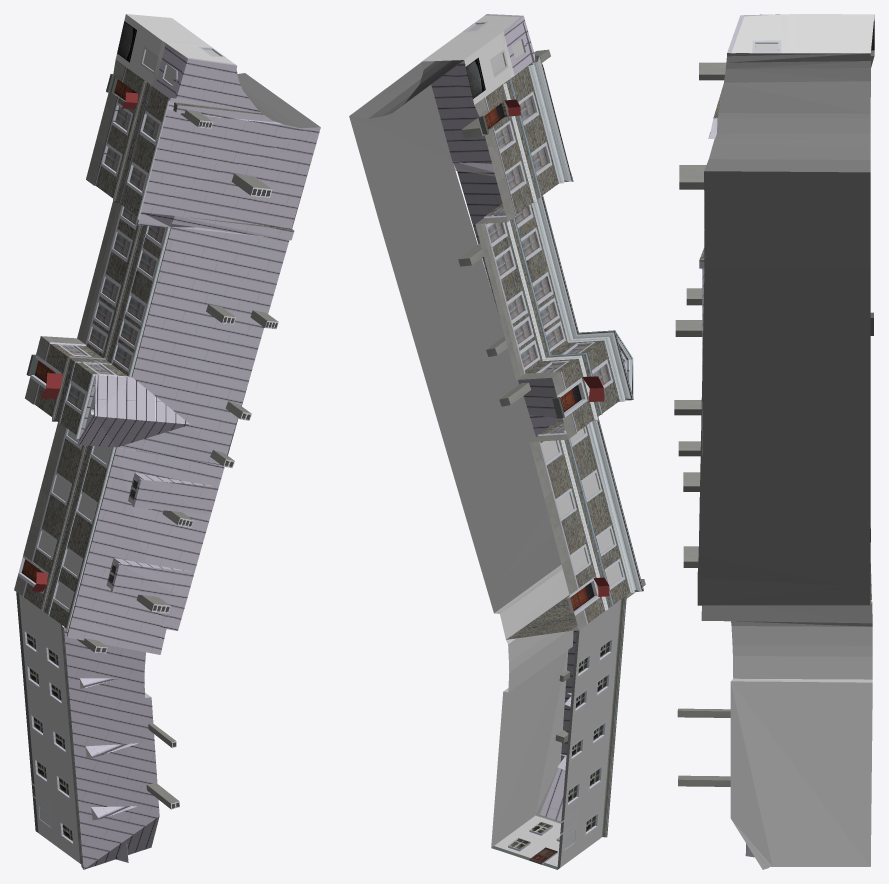
The model's file is Suur-Kloostri_18.obj.
The picture shows the model from 3 angles, left to right: view 1: azimuth 30°, elevation 25°; view 2: azimuth 150°, elevation 25°; view 3: azimuth 270°, elevation 25°; orthographic projection. The views are drawn at different scales.
Visible parts, largest first — view 1: Suur_Kloostri_18; view 2: Suur_Kloostri_18; view 3: Suur_Kloostri_18.
Part boxes in pixels (left/top/right/bottom): Suur_Kloostri_18: left=14, top=14, right=320, bottom=869; Suur_Kloostri_18: left=349, top=14, right=645, bottom=869; Suur_Kloostri_18: left=674, top=14, right=874, bottom=869.
Bounding box in the file's own units: 19.73 × 63.13 × 13.08.
